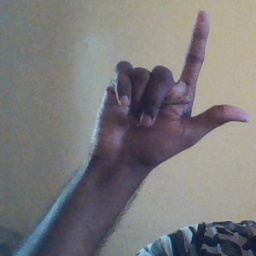L: (91, 9, 250, 165)
